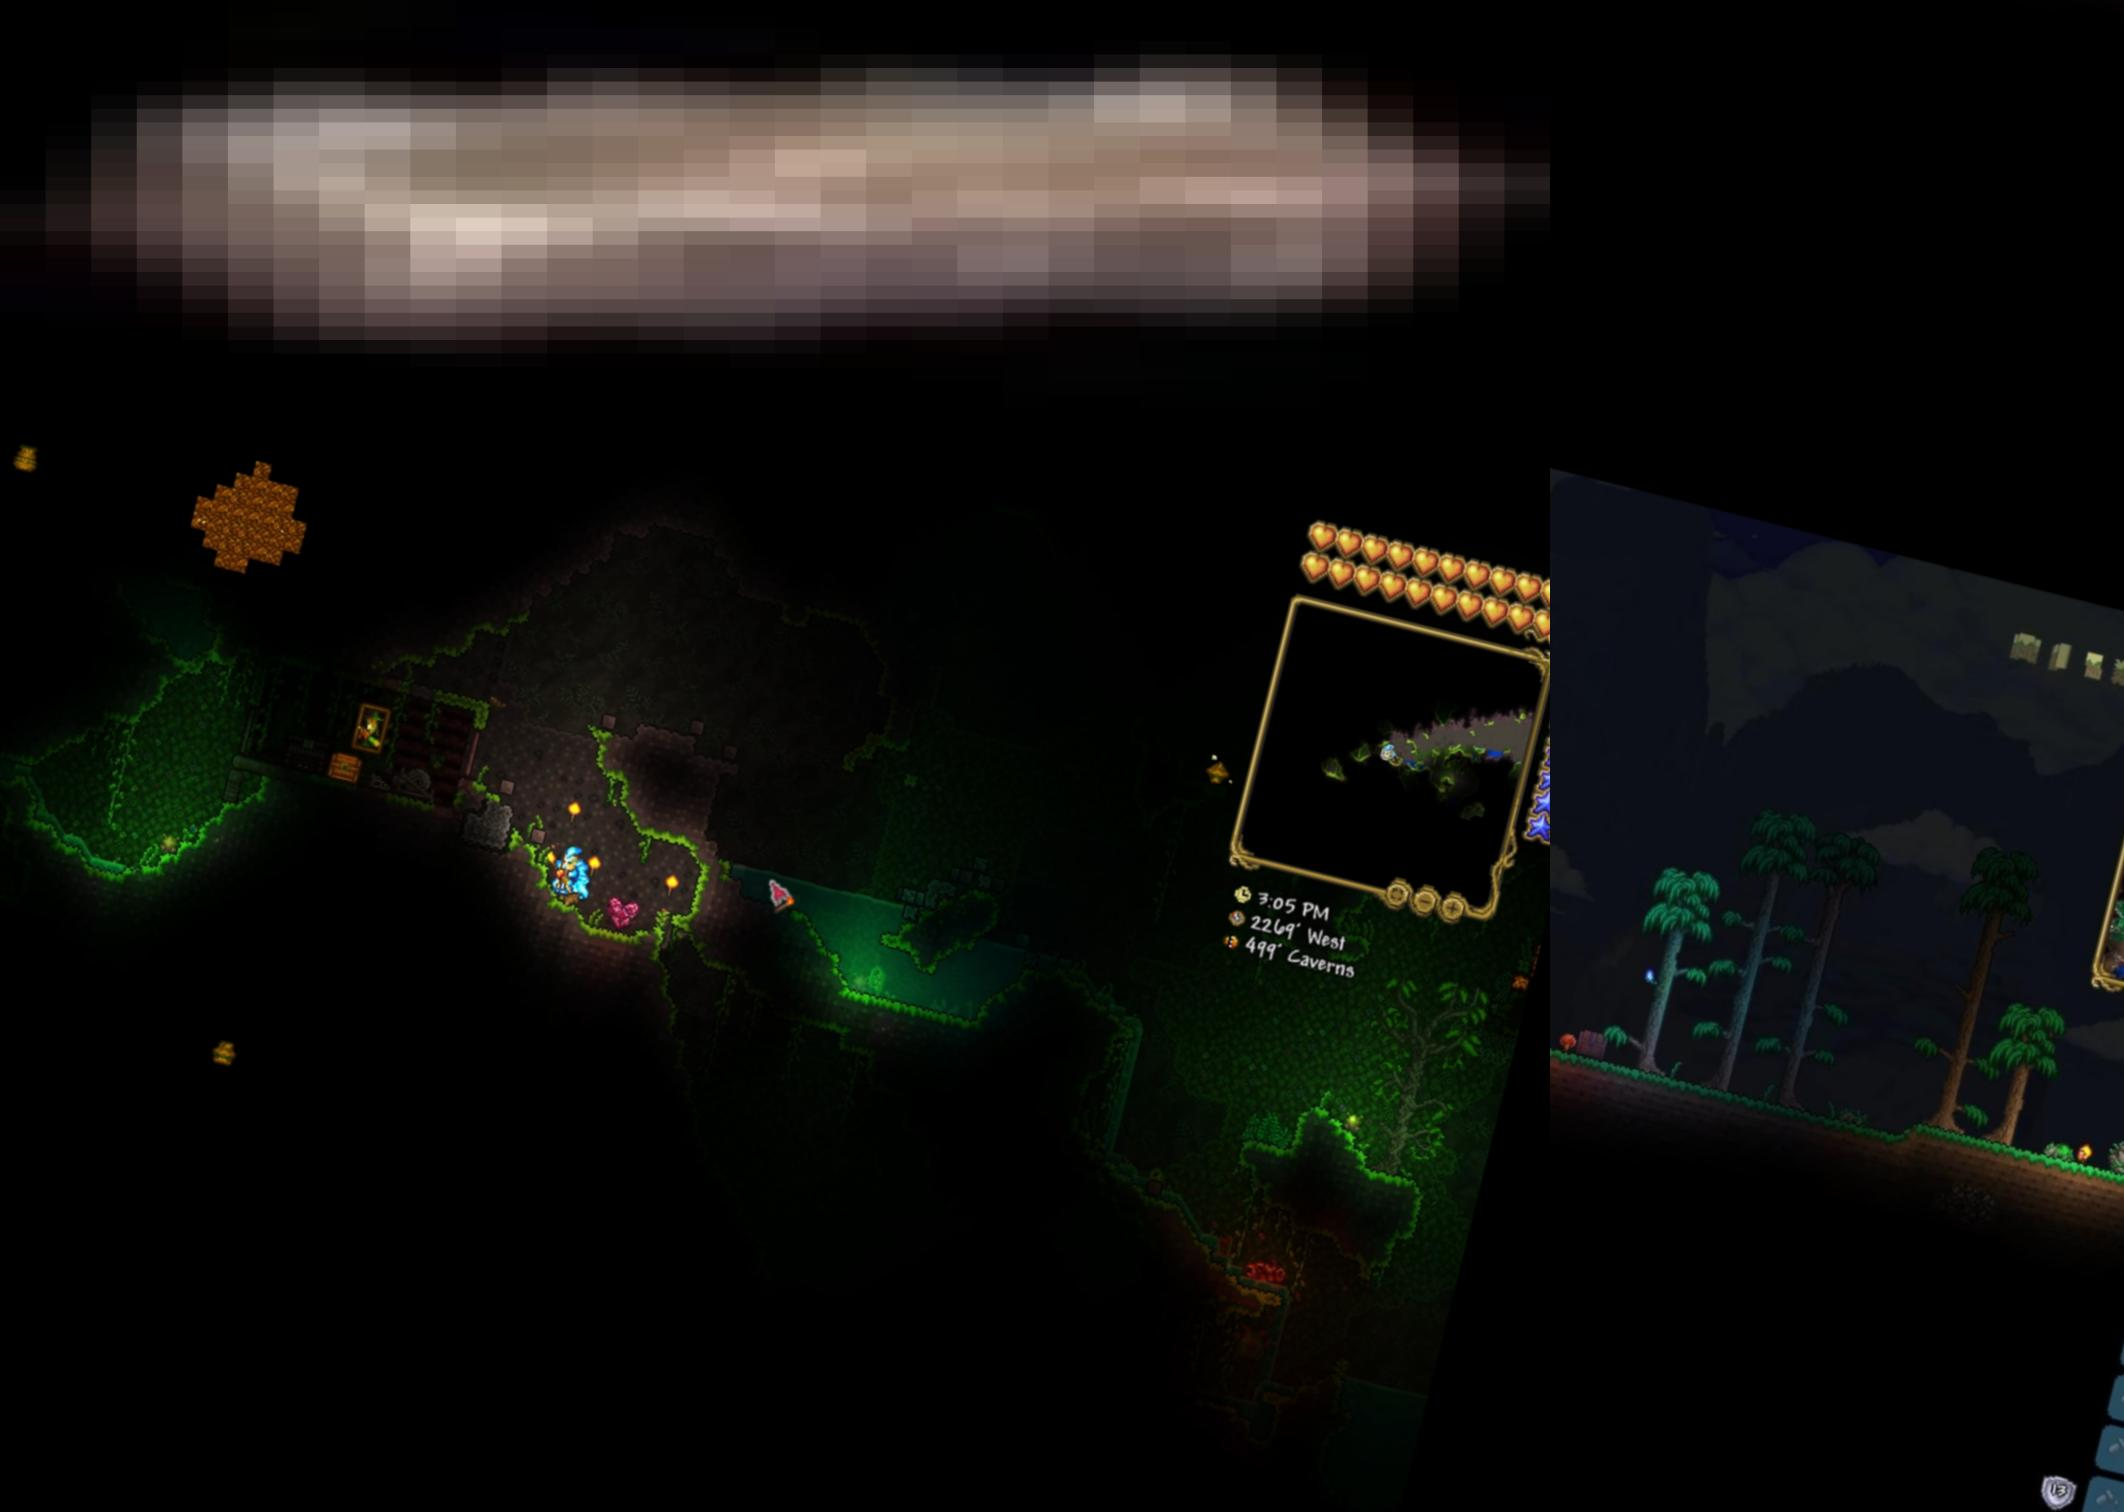bar: (0, 0, 1550, 407)
